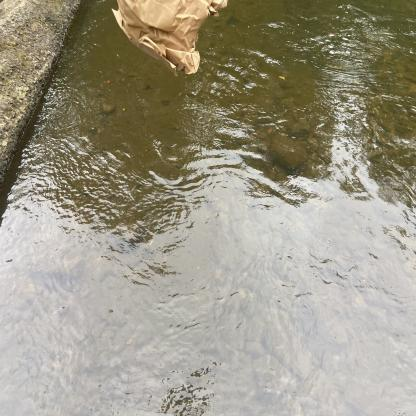trash: (110, 0, 236, 84)
